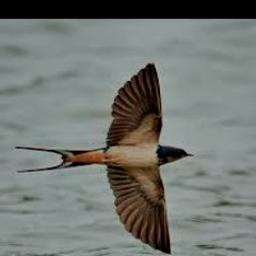Swallow: (16, 62, 194, 253)
